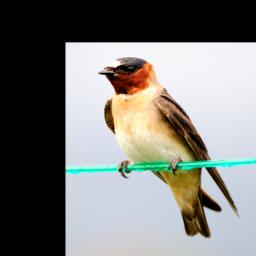Swallow: (97, 56, 240, 239)
